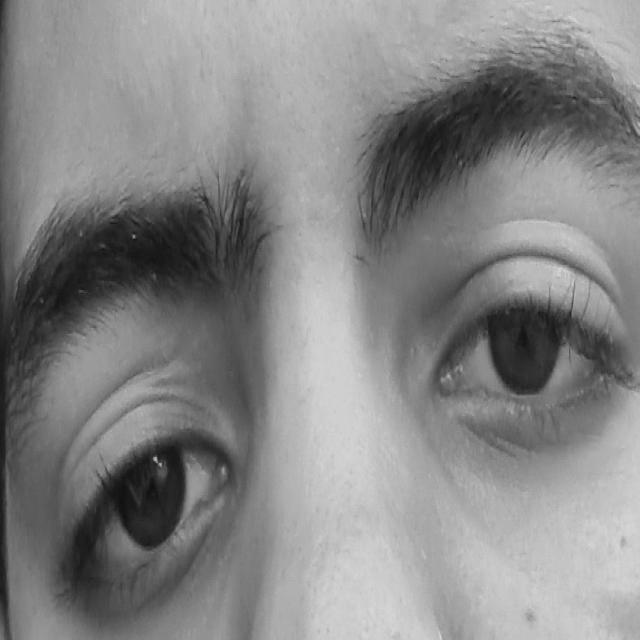real: (46, 170, 636, 620)
